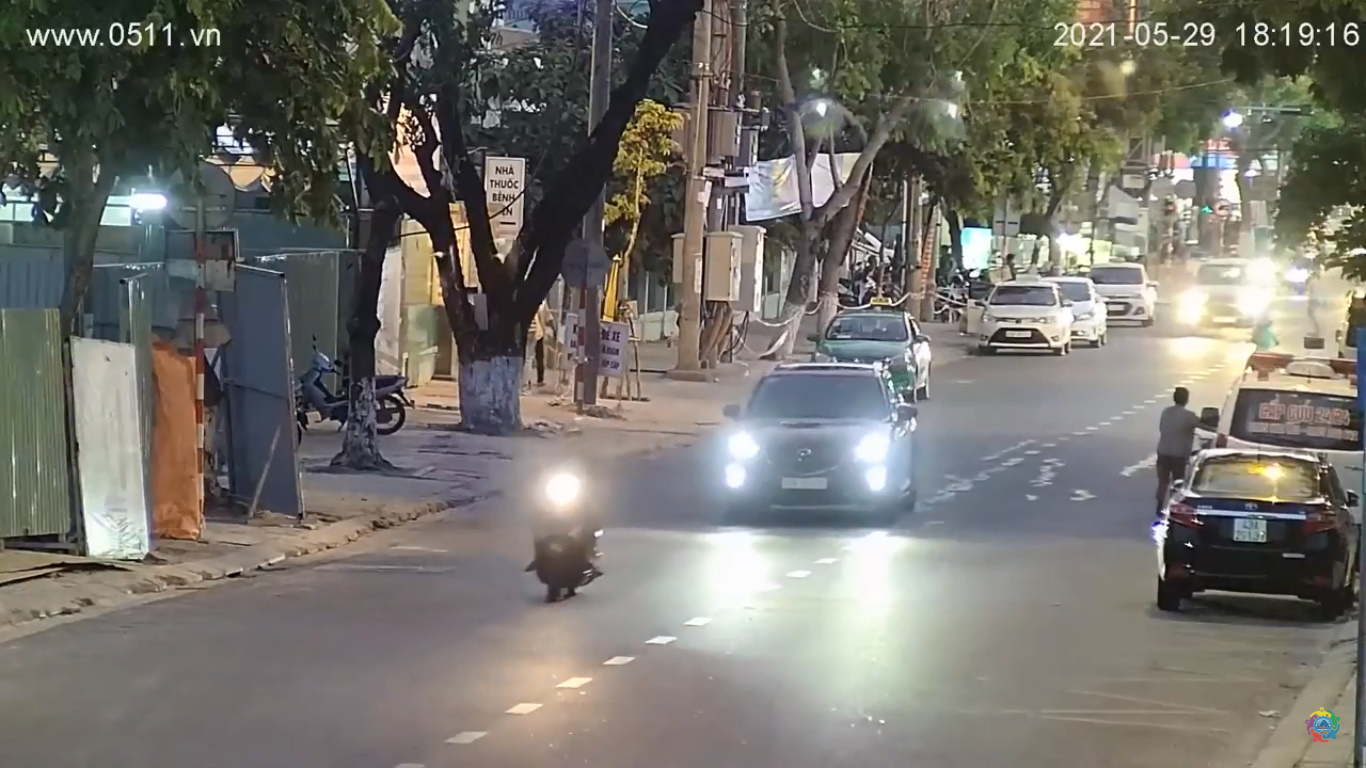car: (724, 364, 919, 527)
